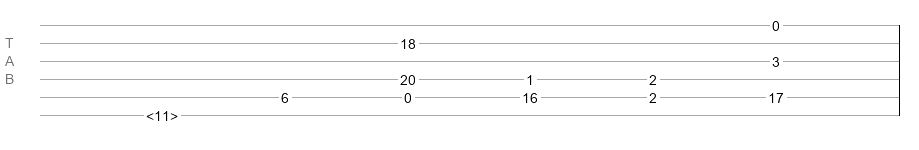0: (404, 90, 412, 100), (772, 18, 780, 28)
1: (526, 72, 534, 82)
16: (522, 90, 538, 100)
17: (768, 90, 784, 100)
18: (400, 36, 416, 46)
2: (649, 90, 657, 100), (649, 72, 657, 82)
20: (400, 72, 416, 82)
3: (772, 54, 780, 64)
6: (281, 90, 289, 100)
harmonic: (146, 108, 178, 118)
